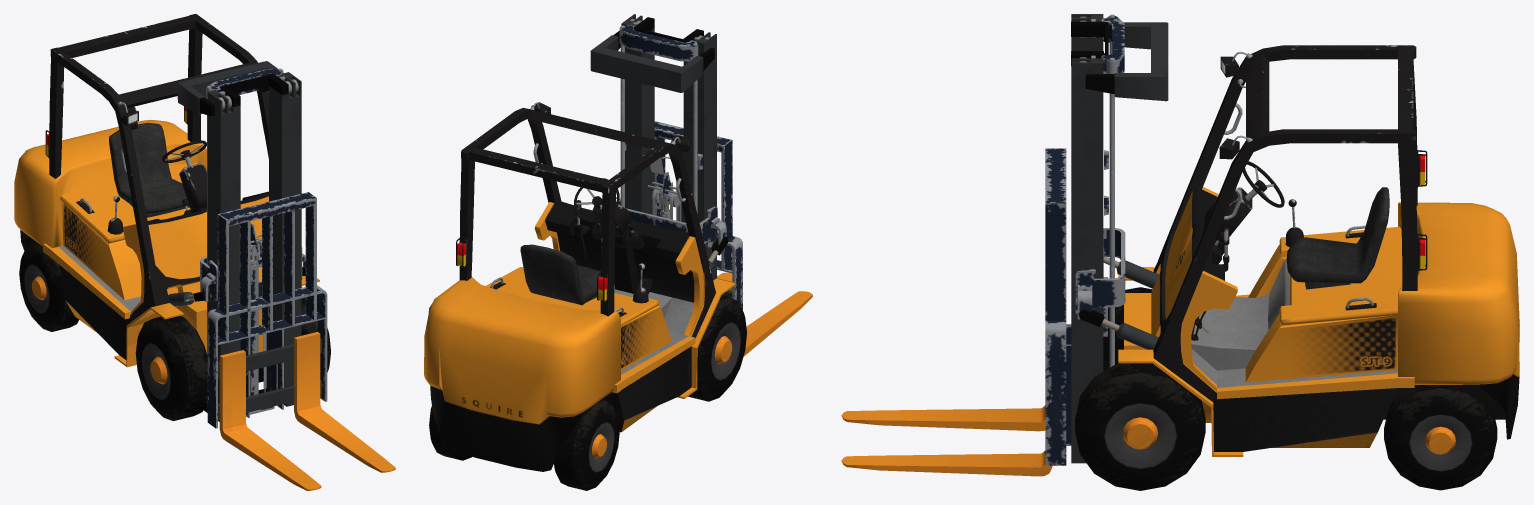
The model's file is warehouse_forklift_gameready.glb.
3 views of the same model, side by side, from view 1: azimuth 30°, elevation 25°; view 2: azimuth 150°, elevation 25°; view 3: azimuth 270°, elevation 25° (orthographic). The views are drawn at different scales.
Parts seen in each view (by area): view 1: ForkLift_ForkLift_01_0; view 2: ForkLift_ForkLift_01_0; view 3: ForkLift_ForkLift_01_0.
Boxes of the visible parts, x1,y1,x2,y2 form: ForkLift_ForkLift_01_0: [14, 14, 395, 490]; ForkLift_ForkLift_01_0: [424, 14, 812, 490]; ForkLift_ForkLift_01_0: [841, 14, 1519, 490].
Bounding box in the file's own units: 1.31 × 2.58 × 3.86.
Materials: 1 (1 with a texture image).
